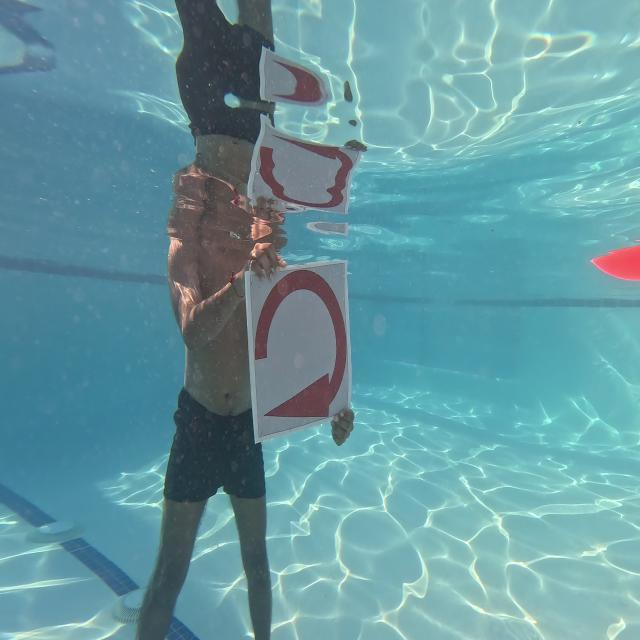red_side: (246, 264, 352, 426)
